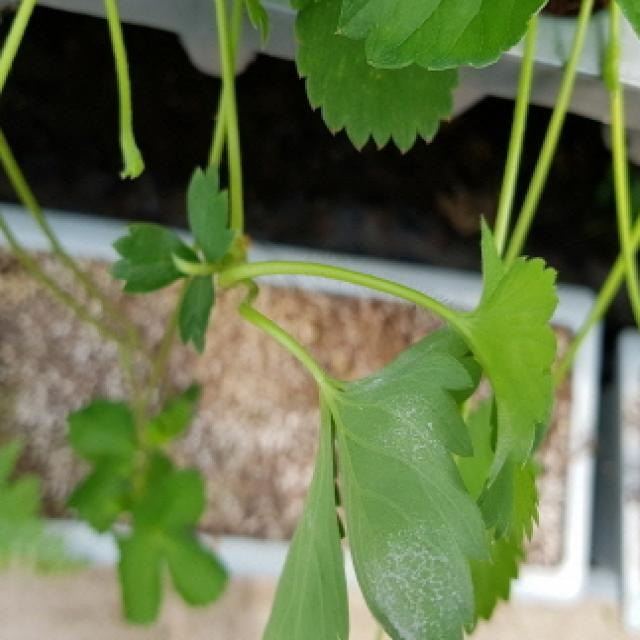Powdery Mildew Leaf: (317, 321, 494, 640)
